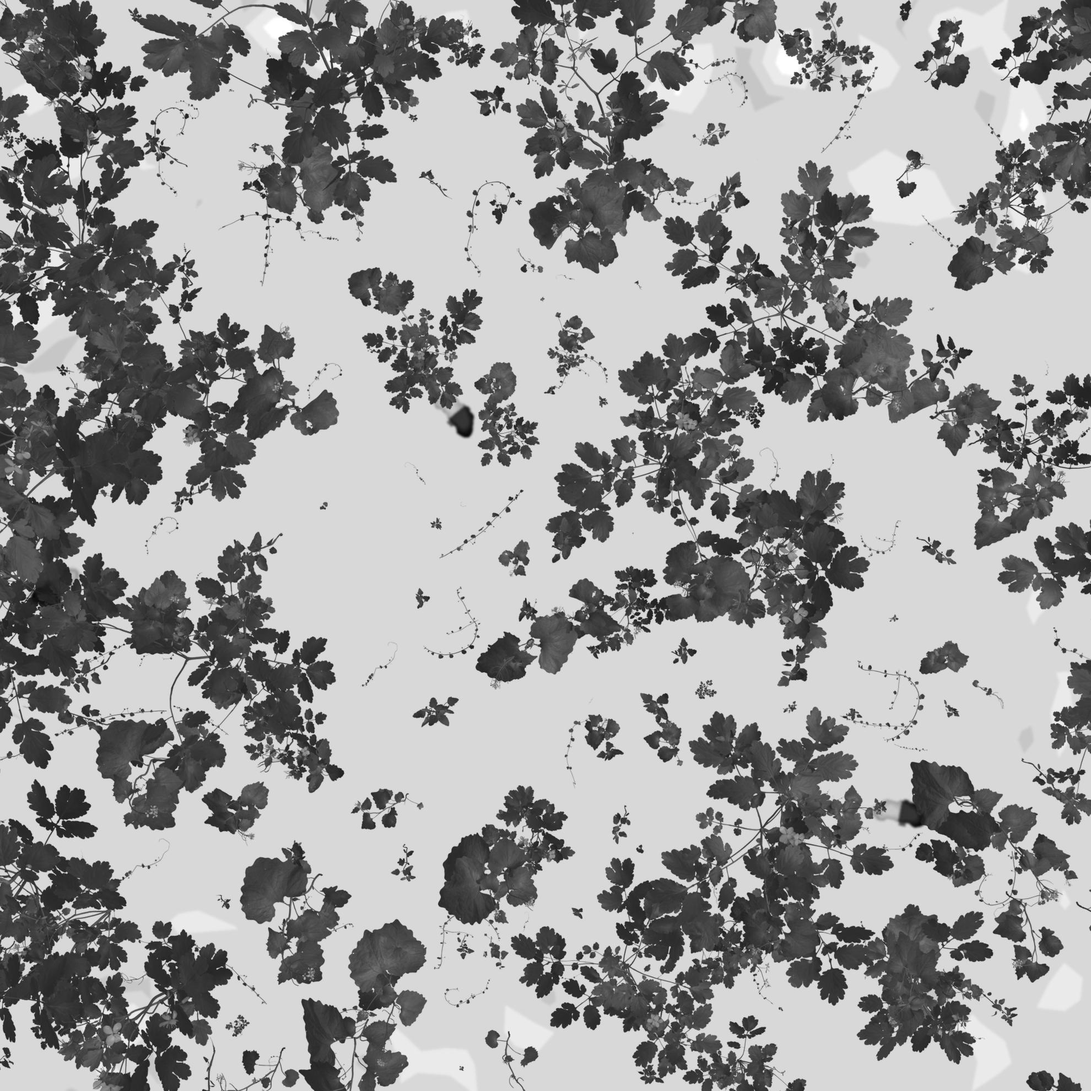landmine: (869, 791, 931, 834), (429, 387, 478, 440)
